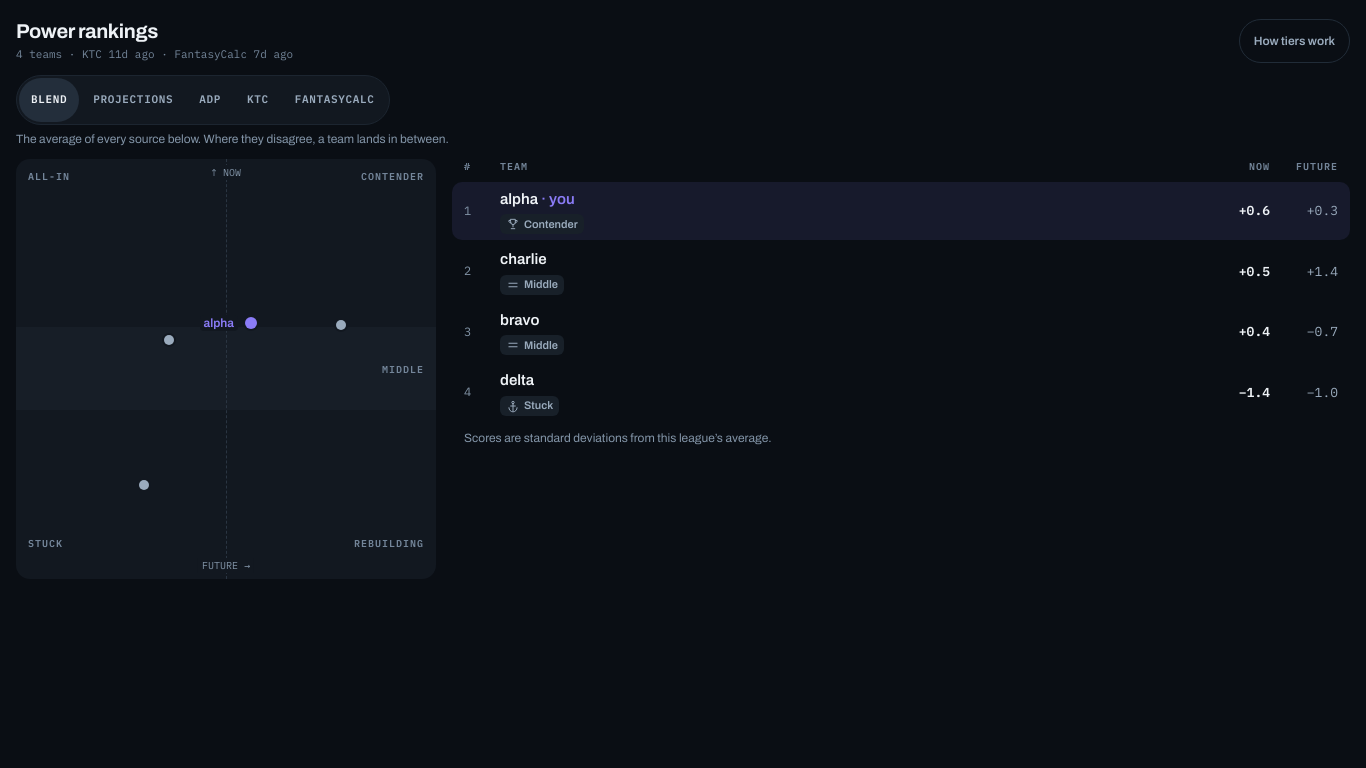
PowerRankingsPanel › explains the tiers on request
Click the button "How tiers work": {"x": 1294, "y": 40} [1239,18,1350,62]
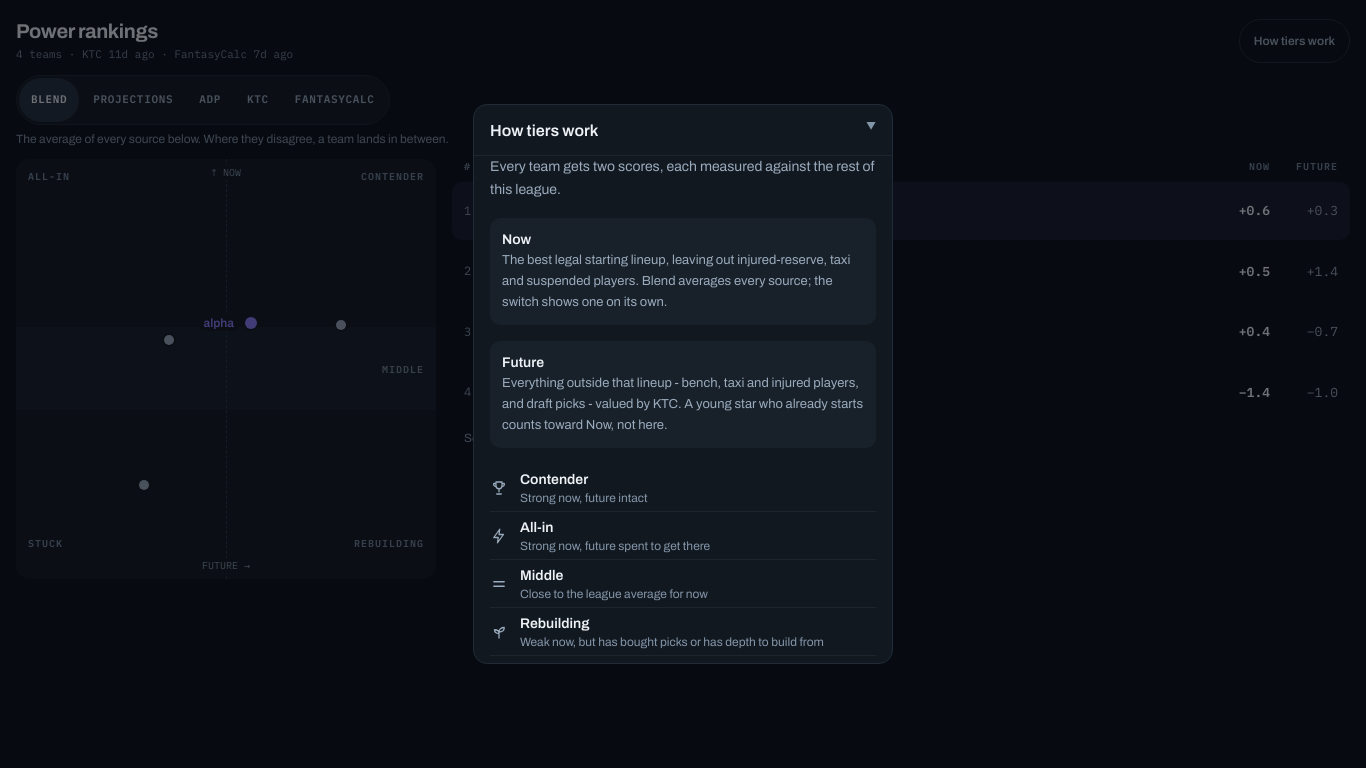
Result: the text "Contender" is shown at [520,472,588,487]
Result: the text "All-in" is shown at [520,520,553,535]
Result: the text "Middle" is shown at [520,568,563,583]
